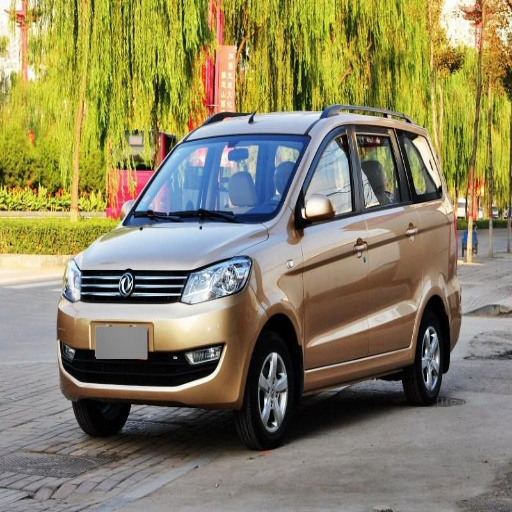front_bumper: (59, 268, 260, 402)
front_glass: (125, 134, 311, 222)
front_left_door: (295, 123, 371, 370)
